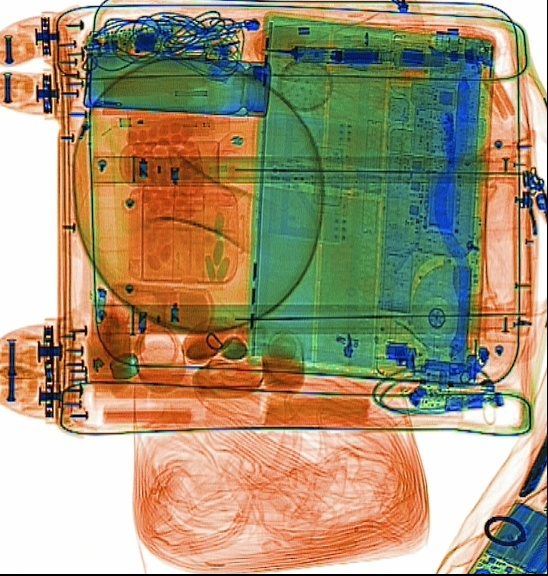powerbank: (460, 497, 543, 570)
